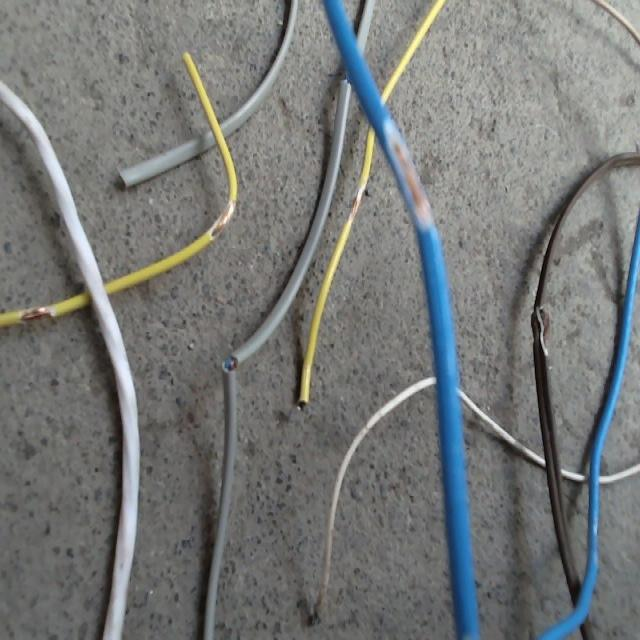-: (381, 116, 434, 229), (529, 305, 552, 356), (211, 196, 235, 240), (18, 303, 55, 321), (220, 352, 237, 373)
